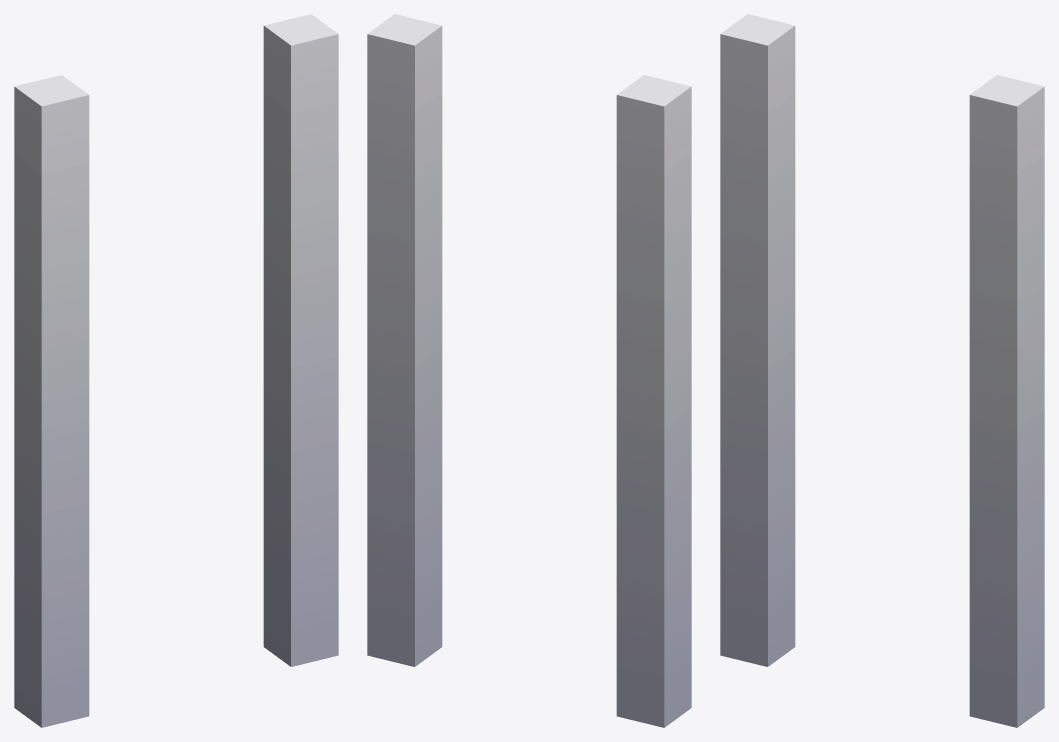
The model's file is kenney-modular-buildings-window-white-round-middle.glb.
The picture shows the model from 3 angles, left to right: view 1: azimuth 30°, elevation 25°; view 2: azimuth 150°, elevation 25°; view 3: azimuth 330°, elevation 25°; orthographic projection.
Visible parts, largest first — view 1: window-white-round-middle; view 2: window-white-round-middle; view 3: window-white-round-middle.
Boxes of the visible parts, x1=… form: window-white-round-middle: x1=14, y1=14, x2=338, y2=727; window-white-round-middle: x1=367, y1=14, x2=691, y2=727; window-white-round-middle: x1=720, y1=14, x2=1044, y2=727.
Size of the model in its own units: 0.3125 by 0.625 by 0.05.
Materials: 1 (1 with a texture image).
